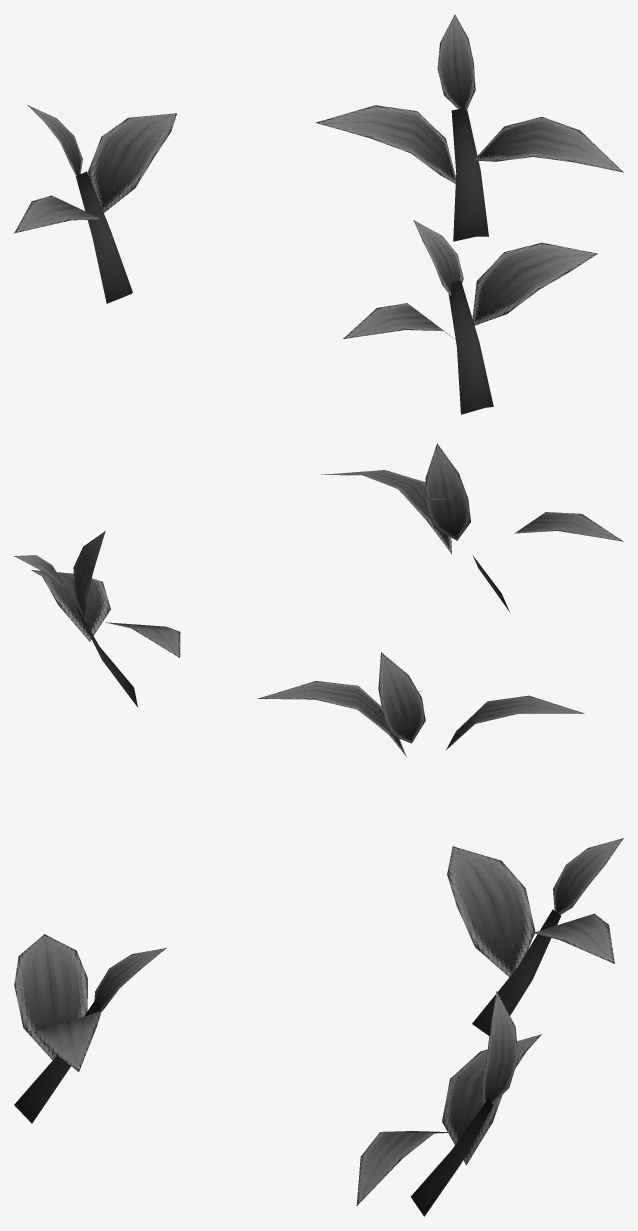
The model's file is PltFlwYuriSeedling.glb.
3 views of the same model, one above another, from view 1: azimuth 30°, elevation 25°; view 2: azimuth 150°, elevation 25°; view 3: azimuth 270°, elevation 25° (orthographic). The views are drawn at different scales.
Visible parts, largest first — view 1: Leaf012__mFlowerBodyYuri; view 2: Leaf012__mFlowerBodyYuri; view 3: Leaf012__mFlowerBodyYuri.
Boxes of the visible parts, x1,y1,x2,y2 form: Leaf012__mFlowerBodyYuri: (14,14,623,414); Leaf012__mFlowerBodyYuri: (14,443,623,756); Leaf012__mFlowerBodyYuri: (14,838,623,1216).
Bounding box in the file's own units: 8.72 × 2.76 × 7.28.
Materials: 1 (1 with a texture image).
